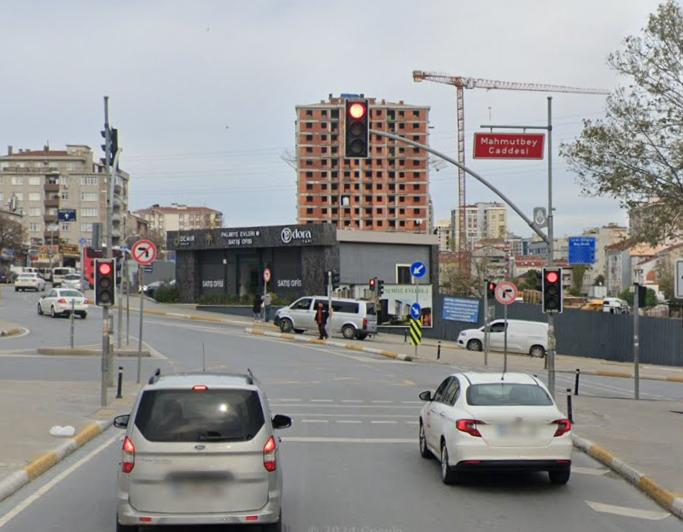redlight: (346, 101, 367, 155), (95, 259, 114, 304), (544, 268, 560, 312)
rightturnsareforbidden: (132, 240, 156, 264), (495, 281, 518, 304)
